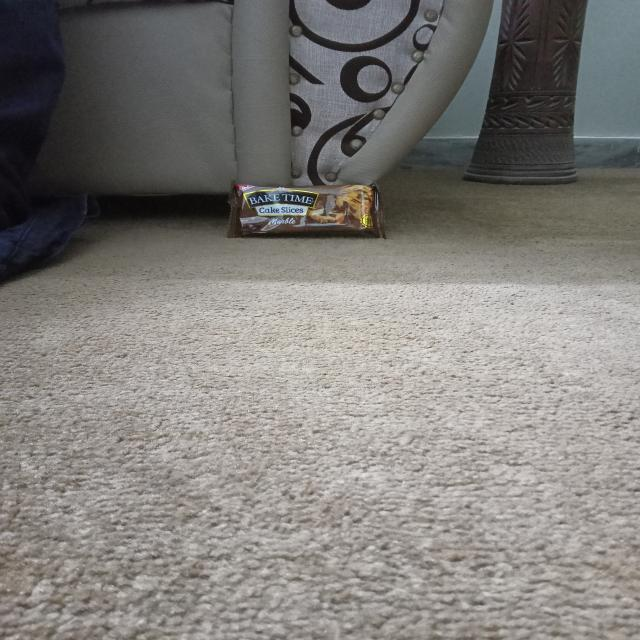Plastic: (224, 180, 382, 243)
